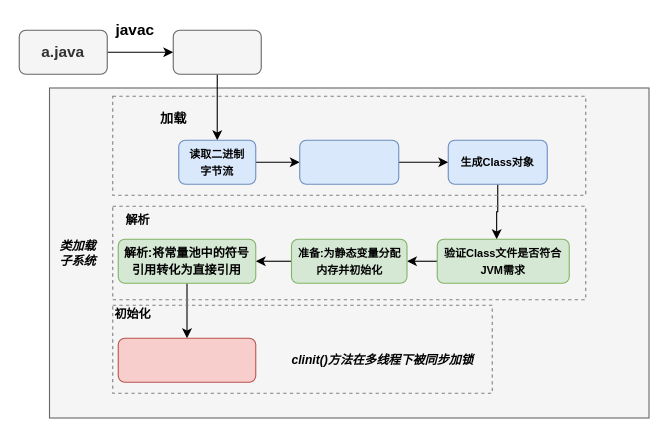
Some shapes in this 669 by 437 pixel diagram are drawn without their labels. Here are the shapes that lost their labels. From the top down, the centre of each, then its label:
At [216,51]: "a.class".
At [349,161]: "转化为方法区运行时数据结构".
At [186,359]: "初始化:执行类构造器方法clinit()方法".
